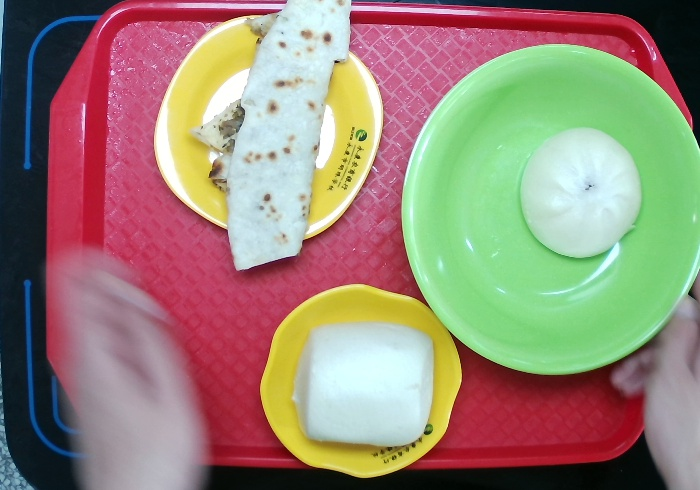YKMZ-Huang_Se_Ao_Bian_Wan: (251, 263, 473, 490)
YKMZ-Huang_Se_Fang_Die: (148, 5, 394, 257)
YKMZ-Lv_Se_Tang_Wan: (399, 38, 700, 381)
